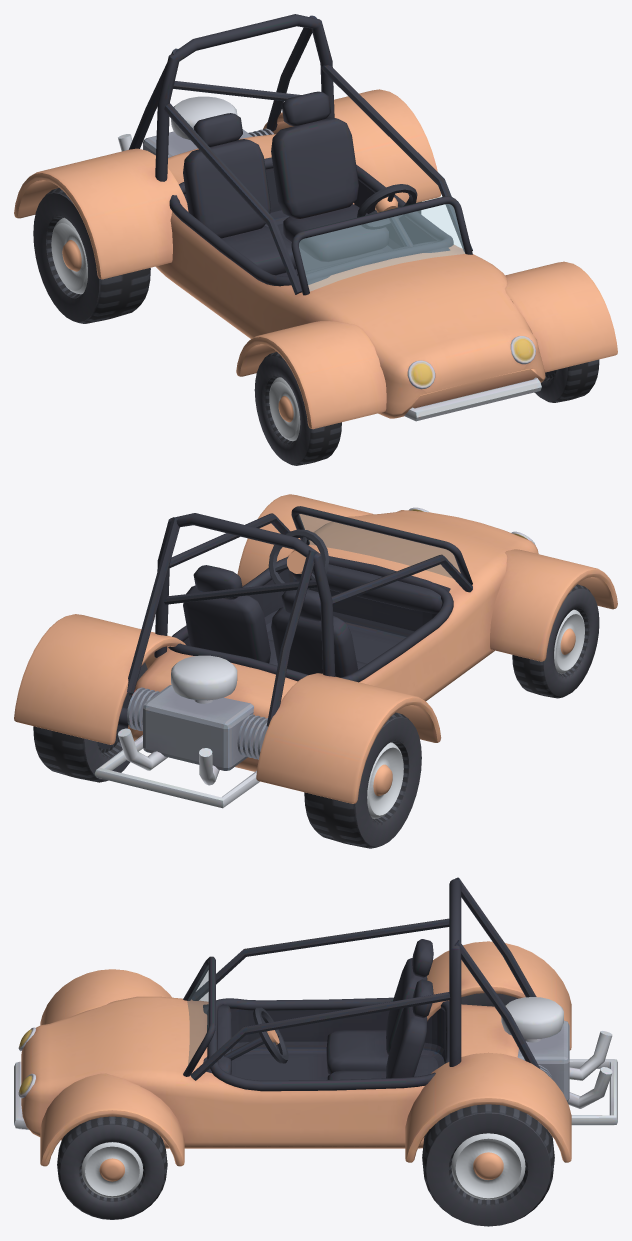
File: dune-buggy.glb
The picture shows the model from 3 angles, top to bottom: view 1: azimuth 30°, elevation 25°; view 2: azimuth 150°, elevation 25°; view 3: azimuth 270°, elevation 25°; orthographic projection. The views are drawn at different scales.
Visible parts, largest first — view 1: dune-buggy_body, dune-buggy_wheel_rr, dune-buggy_windows, dune-buggy_wheel_fr, dune-buggy_wheel_fl, dune-buggy_steering_wheel; view 2: dune-buggy_body, dune-buggy_wheel_rr, dune-buggy_wheel_fr, dune-buggy_windows, dune-buggy_wheel_rl, dune-buggy_steering_wheel; view 3: dune-buggy_body, dune-buggy_wheel_rl, dune-buggy_wheel_fl, dune-buggy_windows, dune-buggy_steering_wheel.
Boxes of the visible parts, x1,y1,x2,y2 form: dune-buggy_body: (14, 14, 617, 429); dune-buggy_wheel_rr: (33, 188, 150, 323); dune-buggy_windows: (299, 204, 464, 291); dune-buggy_wheel_fr: (254, 352, 341, 465); dune-buggy_wheel_fl: (534, 359, 599, 402); dune-buggy_steering_wheel: (357, 184, 417, 229); dune-buggy_body: (14, 494, 617, 808); dune-buggy_wheel_rr: (304, 712, 421, 848); dune-buggy_wheel_fr: (512, 584, 599, 698); dune-buggy_windows: (299, 514, 460, 578); dune-buggy_wheel_rl: (33, 662, 147, 782); dune-buggy_steering_wheel: (268, 529, 329, 592); dune-buggy_body: (14, 877, 617, 1166); dune-buggy_wheel_rl: (422, 1104, 554, 1226); dune-buggy_wheel_fl: (57, 1116, 167, 1219); dune-buggy_windows: (187, 965, 208, 1064); dune-buggy_steering_wheel: (253, 1007, 288, 1063).
Bounding box in the file's own units: 2.02 × 1.51 × 3.28.
Materials: 20 (5 with a texture image).
